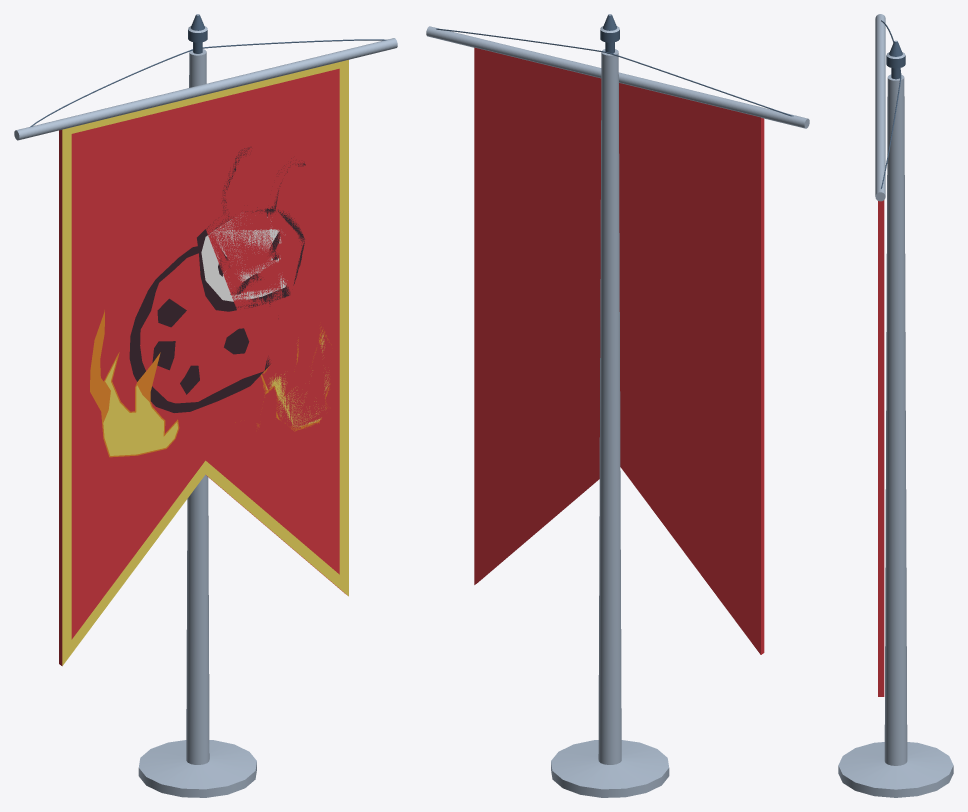
Rendered from BiedraBanner.fbx.
The picture shows the model from 3 angles, left to right: view 1: azimuth 30°, elevation 25°; view 2: azimuth 150°, elevation 25°; view 3: azimuth 270°, elevation 25°; orthographic projection. The views are drawn at different scales.
Visible parts, largest first — view 1: Cube.015, Cylinder.003, Cylinder.004, BezierCurve; view 2: Cube.015, Cylinder.003, Cylinder.004, BezierCurve; view 3: Cylinder.003, Cube.015, Cylinder.004, BezierCurve.
Boxes of the visible parts, x1,y1,x2,y2 form: Cube.015: (59, 60, 348, 666); Cylinder.003: (138, 14, 256, 797); Cylinder.004: (14, 38, 397, 140); BezierCurve: (30, 39, 387, 127); Cube.015: (474, 47, 764, 654); Cylinder.003: (551, 14, 669, 797); Cylinder.004: (426, 26, 809, 128); BezierCurve: (436, 28, 793, 116); Cylinder.003: (838, 40, 953, 797); Cube.015: (878, 200, 884, 696); Cylinder.004: (875, 14, 885, 201); BezierCurve: (881, 20, 901, 188).
Bounding box in the file's own units: 1192 × 2282 × 325.
